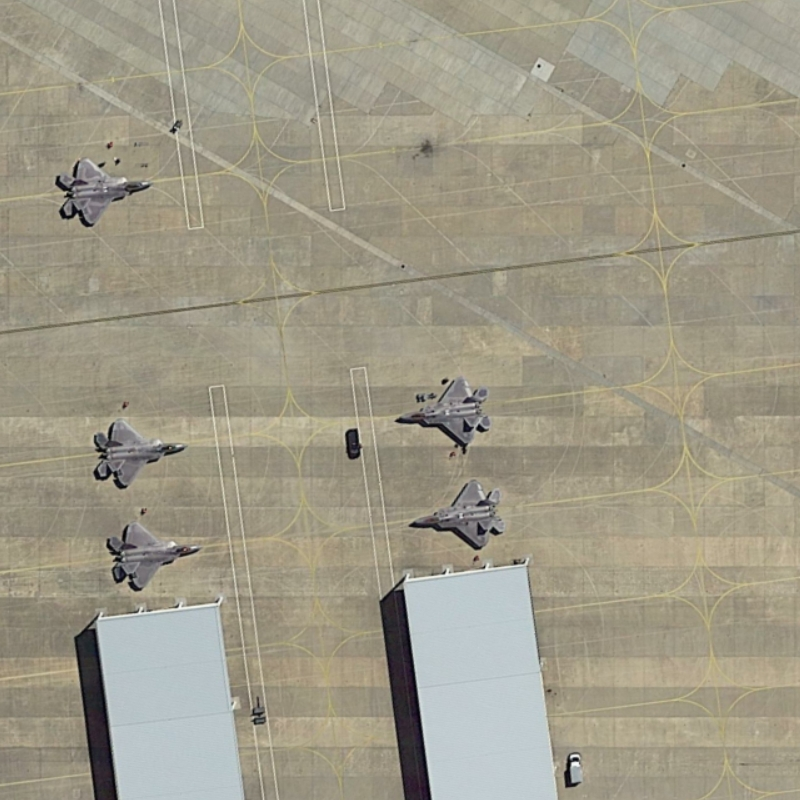A15: (391, 367, 499, 452), (405, 469, 511, 554), (49, 151, 157, 232), (87, 414, 190, 494), (102, 516, 204, 593)
